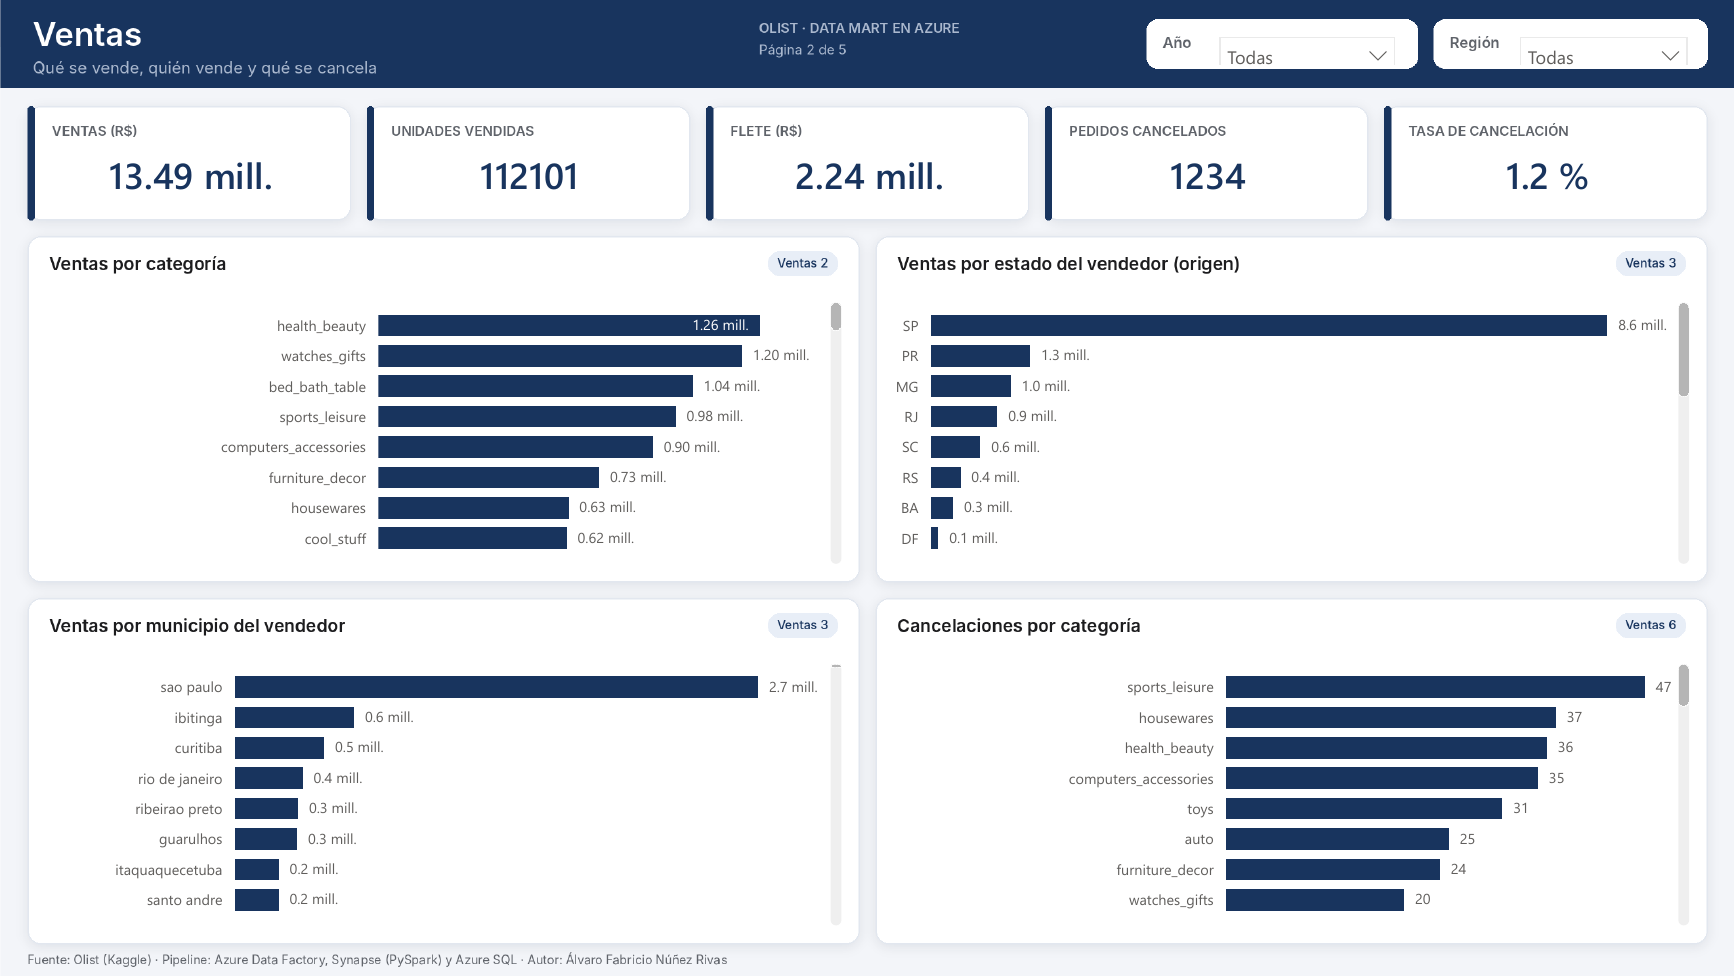

The dashboard page shown, as its layout file describes it:
{"tool":"powerbi","page":{"name":"Ventas","canvas":[1280,720],"ordinal":1},"visuals":[{"type":"slicer","fields":{"Values":["dim_fecha.anio"]},"box":[890,17,150,30],"z":0},{"type":"slicer","fields":{"Values":["dim_ubicacion.region"]},"box":[1112,17,144,30],"z":1},{"type":"card","fields":{"Values":["_Medidas.Ventas"]},"box":[28,100,226,60],"z":2},{"type":"card","fields":{"Values":["_Medidas.Unidades vendidas"]},"box":[278,100,226,60],"z":3},{"type":"card","fields":{"Values":["_Medidas.Flete"]},"box":[529,100,226,60],"z":4},{"type":"card","fields":{"Values":["_Medidas.Pedidos cancelados"]},"box":[779,100,226,60],"z":5},{"type":"card","fields":{"Values":["_Medidas.Tasa de cancelación"]},"box":[1030,100,226,60],"z":6},{"type":"clusteredBarChart","fields":{"Category":["dim_producto.categoria_en"],"Y":["_Medidas.Ventas"]},"box":[28,210,598,211],"z":7},{"type":"clusteredBarChart","fields":{"Category":["dim_vendedor.estado"],"Y":["_Medidas.Ventas"]},"box":[654,210,598,211],"z":8},{"type":"clusteredBarChart","fields":{"Category":["dim_vendedor.municipio"],"Y":["_Medidas.Ventas"]},"box":[28,477,598,211],"z":9},{"type":"clusteredBarChart","fields":{"Category":["dim_producto.categoria_en"],"Y":["_Medidas.Pedidos cancelados con productos"]},"box":[654,477,598,211],"z":10}]}

Visuals, with their boxes in screenshot pixels (x1, y1, x2, y2), scaled from the page's 1280x720 canvas onto the 1734x976 screenshot:
slicer - dim_fecha.anio: box=[1206, 23, 1409, 64]
slicer - dim_ubicacion.region: box=[1506, 23, 1701, 64]
card - _Medidas.Ventas: box=[38, 136, 344, 217]
card - _Medidas.Unidades vendidas: box=[377, 136, 683, 217]
card - _Medidas.Flete: box=[717, 136, 1023, 217]
card - _Medidas.Pedidos cancelados: box=[1055, 136, 1361, 217]
card - _Medidas.Tasa de cancelación: box=[1395, 136, 1701, 217]
clusteredBarChart - dim_producto.categoria_en x _Medidas.Ventas: box=[38, 285, 848, 571]
clusteredBarChart - dim_vendedor.estado x _Medidas.Ventas: box=[886, 285, 1696, 571]
clusteredBarChart - dim_vendedor.municipio x _Medidas.Ventas: box=[38, 647, 848, 933]
clusteredBarChart - dim_producto.categoria_en x _Medidas.Pedidos cancelados con productos: box=[886, 647, 1696, 933]
